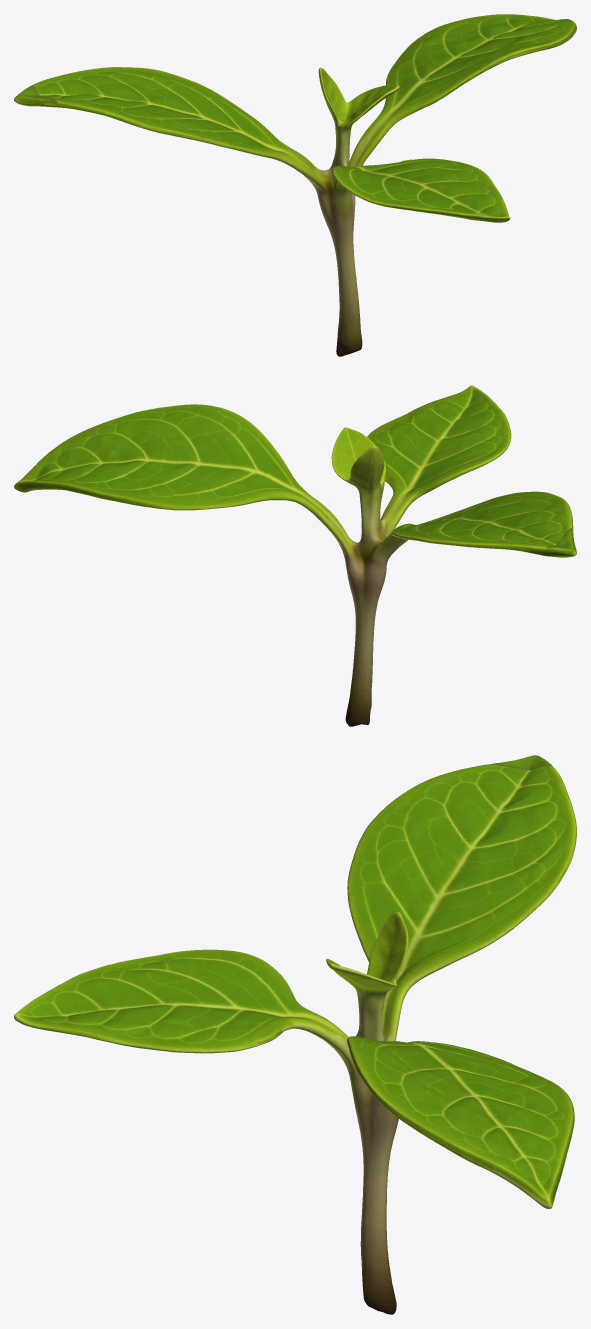
File: stage-1.glb
The picture shows the model from 3 angles, top to bottom: view 1: azimuth 30°, elevation 25°; view 2: azimuth 150°, elevation 25°; view 3: azimuth 270°, elevation 25°; orthographic projection. The views are drawn at different scales.
Bounding box in the file's own units: 1.9 × 0.9415 × 1.25.
Materials: 1 (1 with a texture image).
